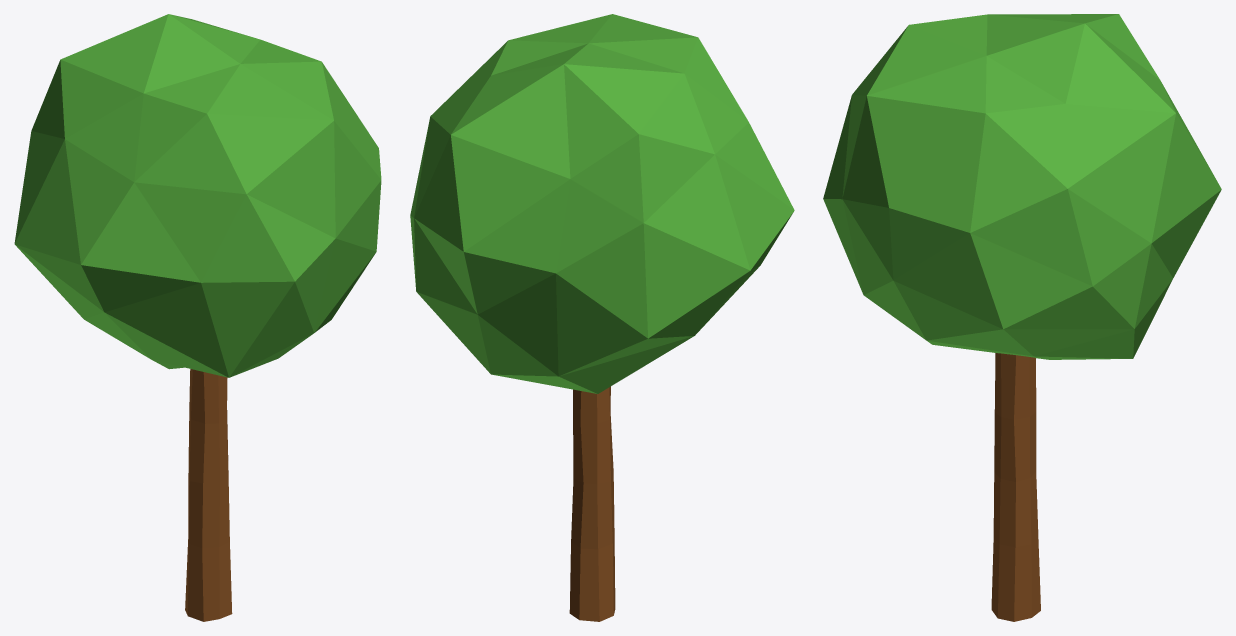
The model's file is tree2.fbx.
3 views of the same model, side by side, from view 1: azimuth 30°, elevation 25°; view 2: azimuth 150°, elevation 25°; view 3: azimuth 270°, elevation 25° (orthographic).
Visible parts, largest first — view 1: tree.002; view 2: tree.002; view 3: tree.002.
Boxes of the visible parts, box(x1,y1,x2,y2) form: tree.002: box(14, 14, 381, 621); tree.002: box(410, 14, 794, 621); tree.002: box(823, 14, 1221, 621).
Bounding box in the file's own units: 1969 × 1994 × 3231.
